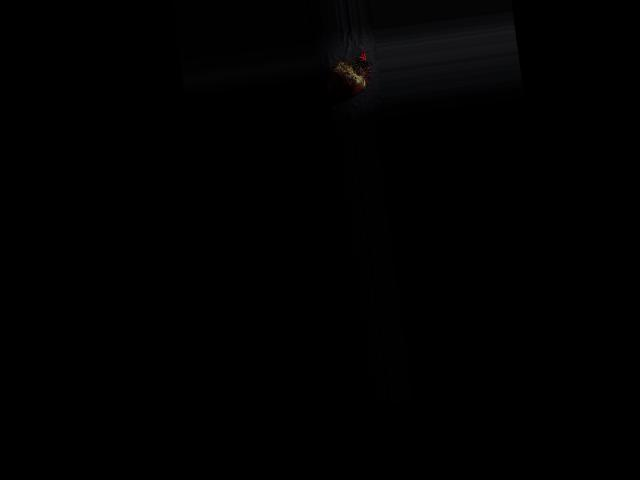beet: (319, 47, 378, 113)
